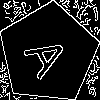A: (23, 28, 79, 81)
